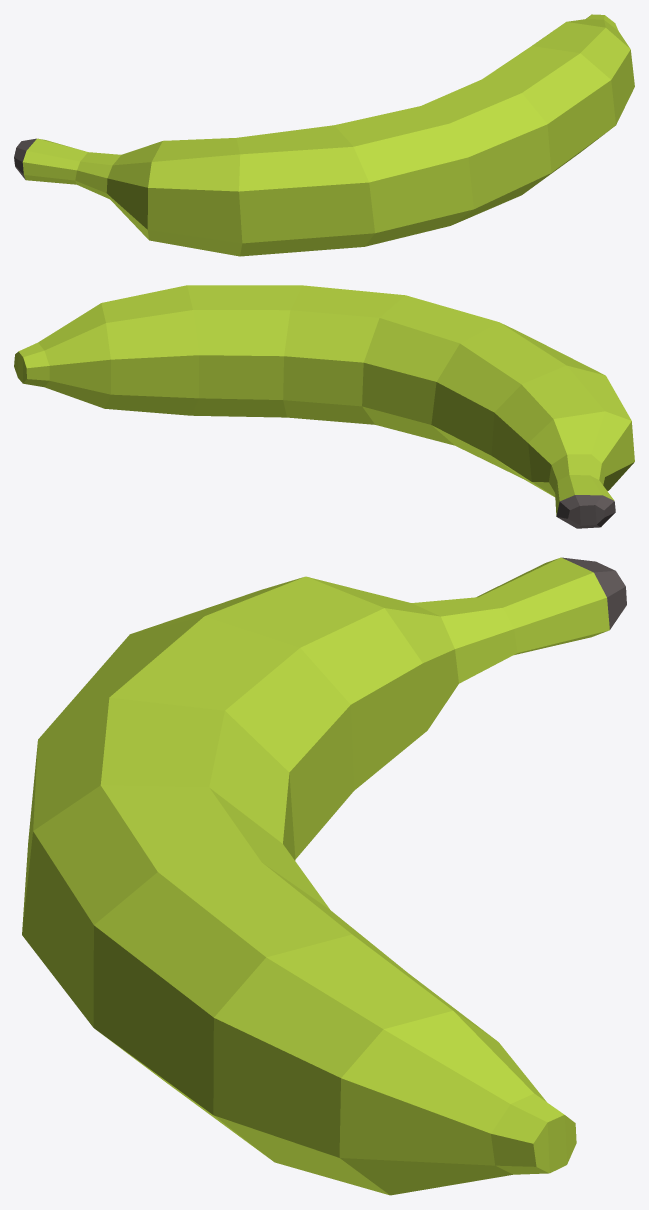
Rendered from banana.fbx.
3 renders of one model, top to bottom at view 1: azimuth 30°, elevation 25°; view 2: azimuth 150°, elevation 25°; view 3: azimuth 270°, elevation 25°, orthographic. The views are drawn at different scales.
Visible parts, largest first — view 1: Cylinder; view 2: Cylinder; view 3: Cylinder.
Boxes of the visible parts, x1,y1,x2,y2 form: Cylinder: (14,14,634,256); Cylinder: (14,285,634,528); Cylinder: (22,557,626,1195).
Bounding box in the file's own units: 140 × 24.25 × 62.09.
